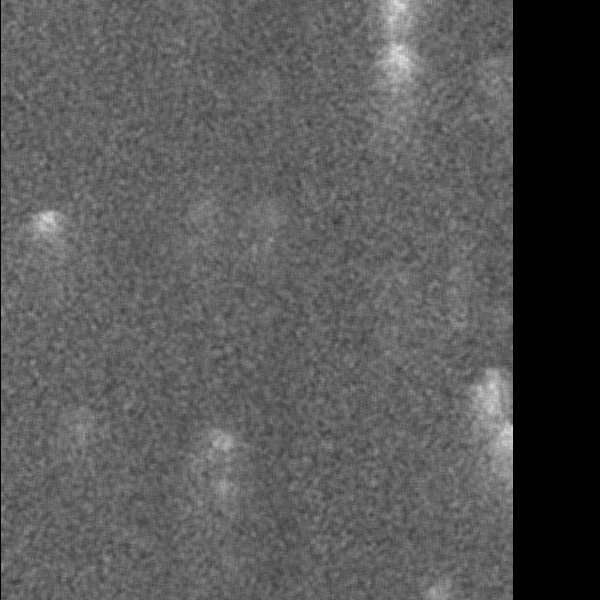spark: (33, 206, 66, 266), (207, 430, 241, 472), (201, 473, 234, 502), (417, 583, 448, 599)
